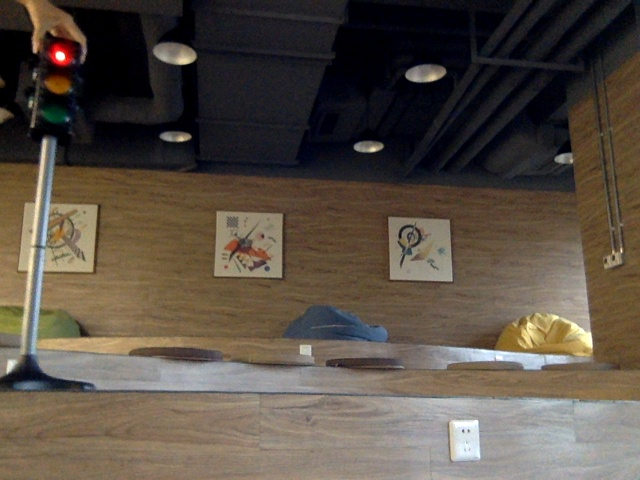red: (37, 44, 77, 130)
